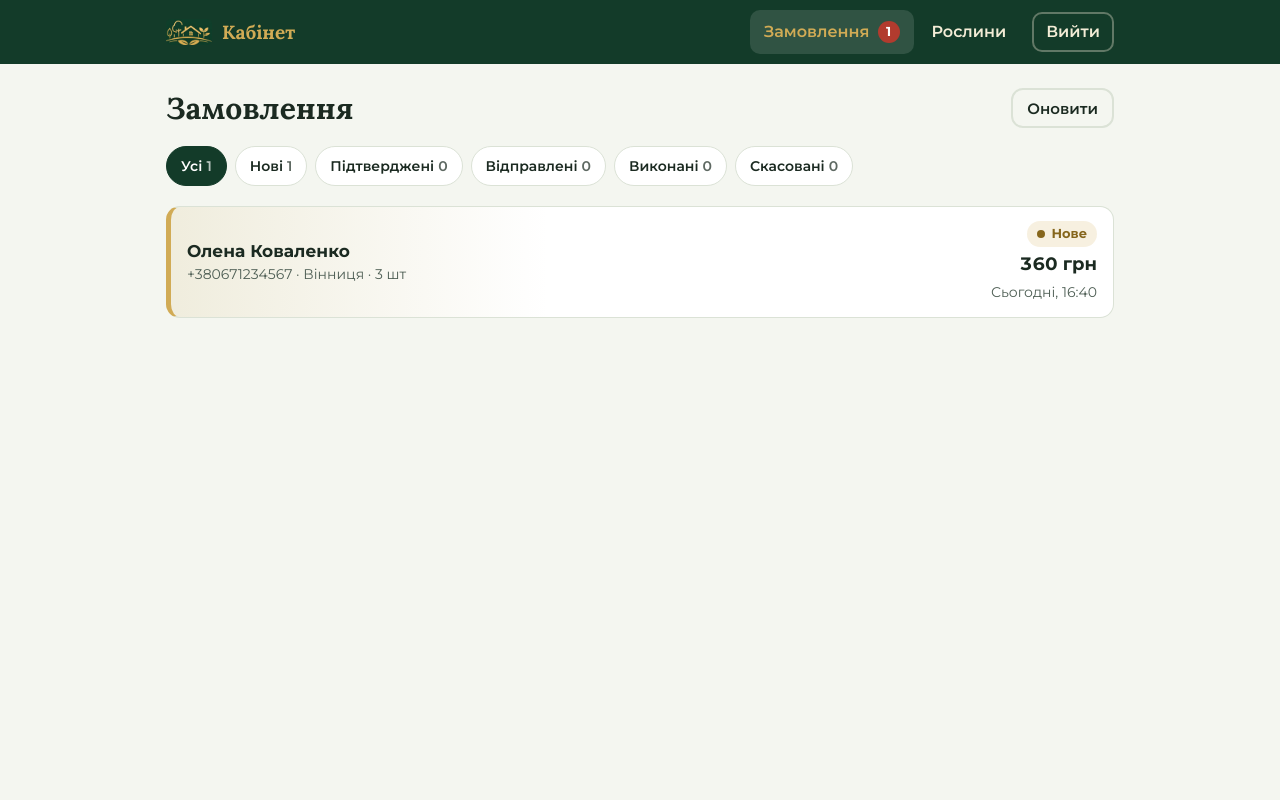
замовлення › список → картка замовлення → зміна статусу й нотатка
Expected: the text "Нове" is shown, [1027,221,1097,247]
Expected: the text "360 грн" is shown, [1020,251,1097,278]
Click the link "Олена Коваленко" at point(268, 251), box [166,206,1114,318]
(page scrolled)
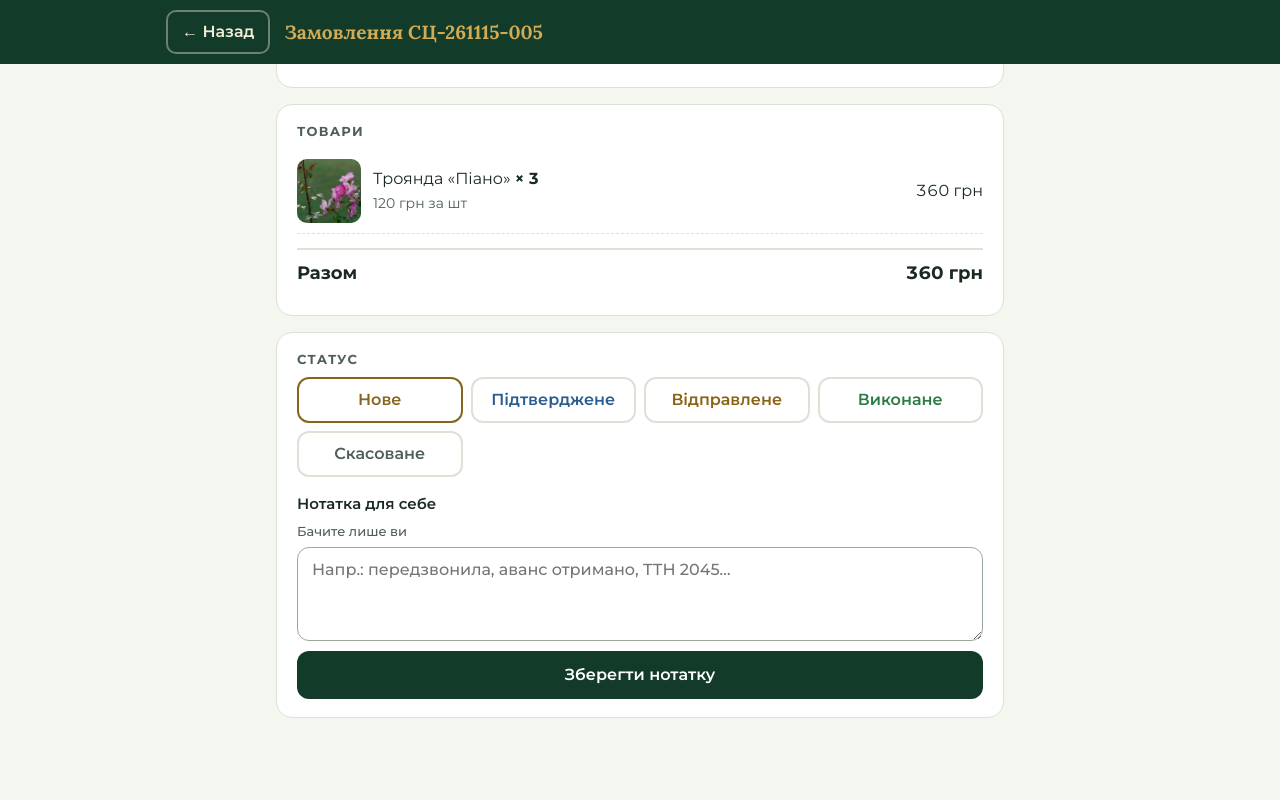
Expected: the text "Після 18:00" is shown, [297,47,388,66]
Expected: the text "Замовлення СЦ-261115-005" is shown, [284,20,543,44]
Expected: the text "Троянда «Піано» × 3120 грн за шт" is shown, [373,169,538,212]
Click the button "Підтверджене" at point(553, 400), box [470,377,636,423]
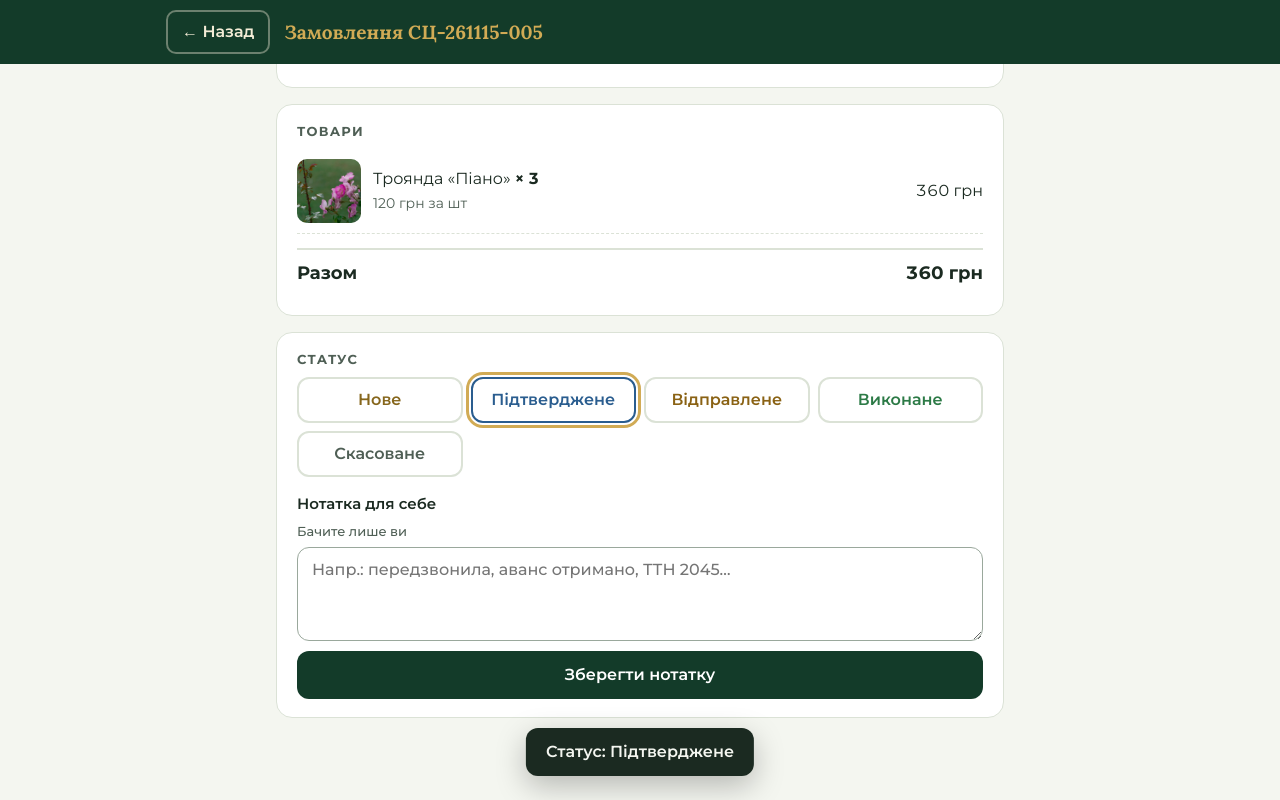
Expected: the button "Підтверджене" is pressed, [470,377,636,423]
Type "Аванс отримано" into the text box with placeholder "Напр.: передзвонила, аванс отримано, ТТН 2045…" at point(640, 594), box [297,547,983,641]
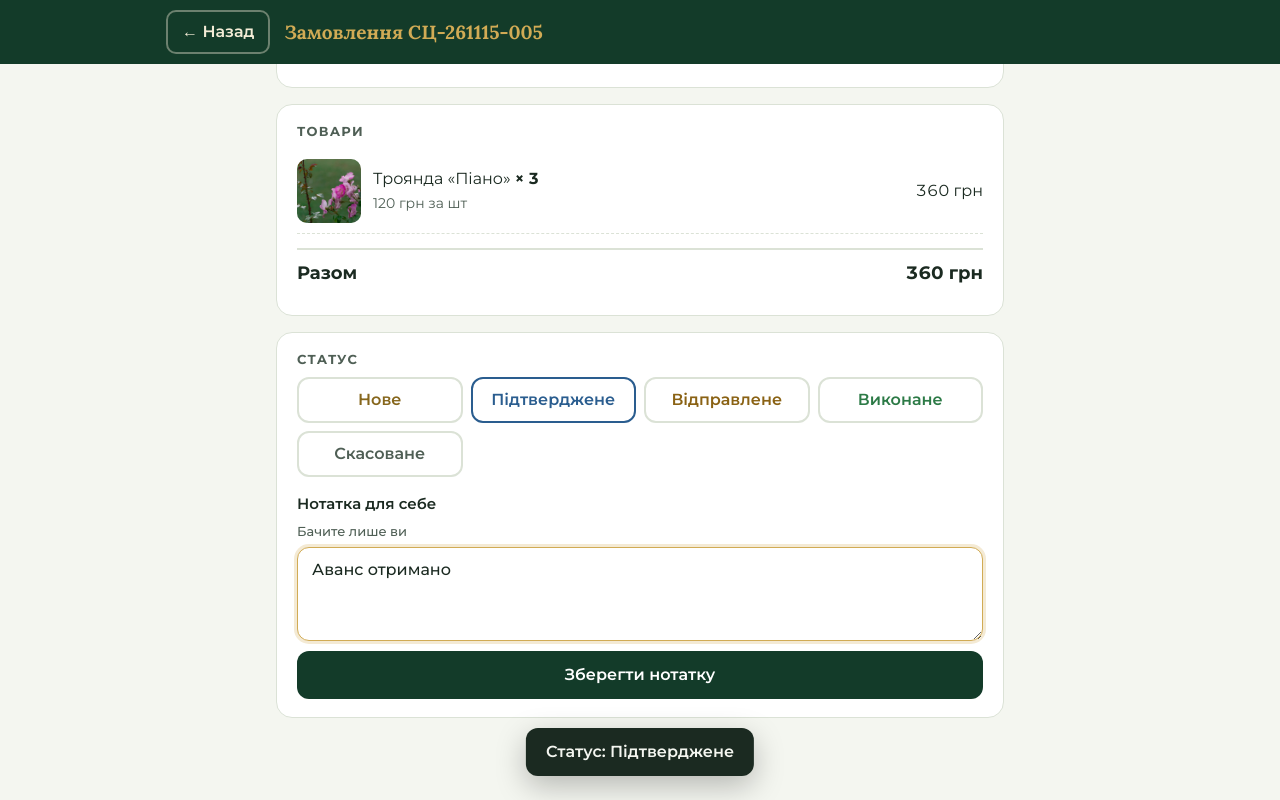
Click the button "Зберегти нотатку" at point(640, 675), box [297,651,983,699]
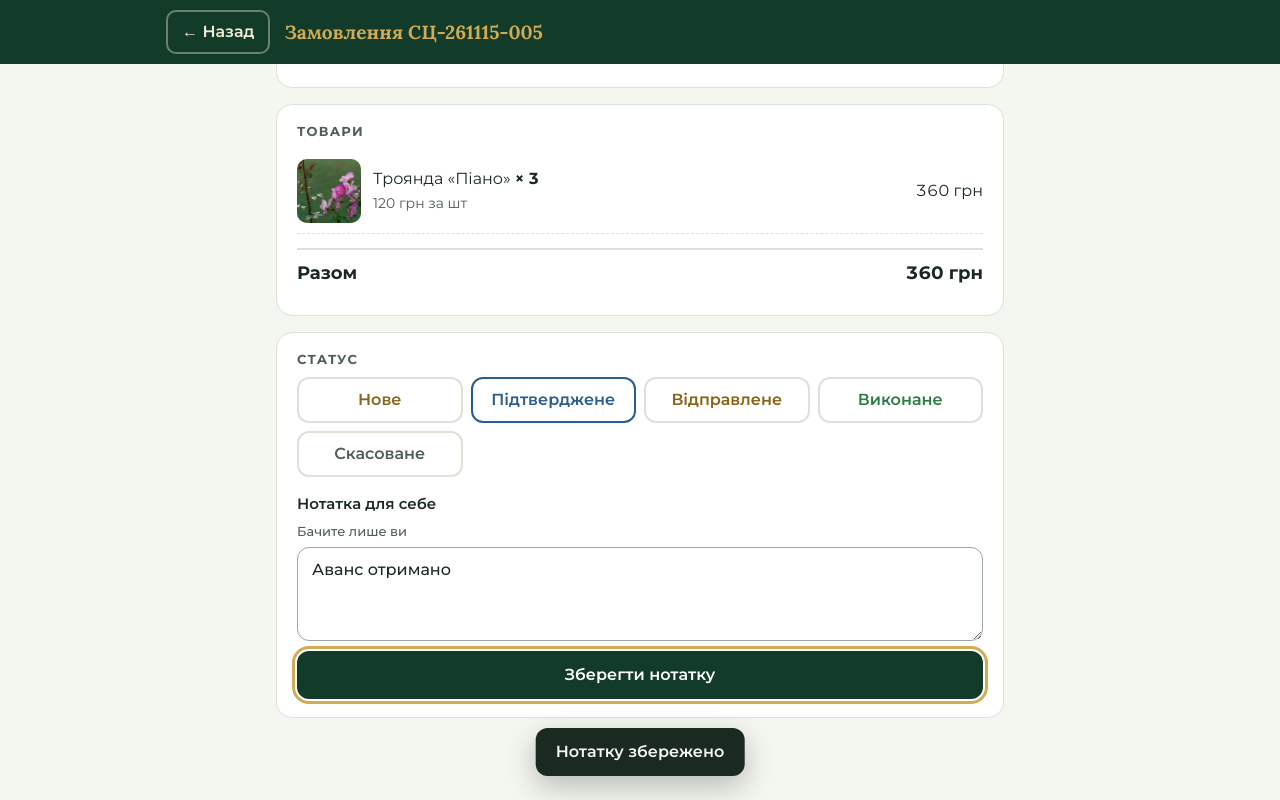
Expected: the text "Нотатку збережено" is shown, [536,728,744,776]
